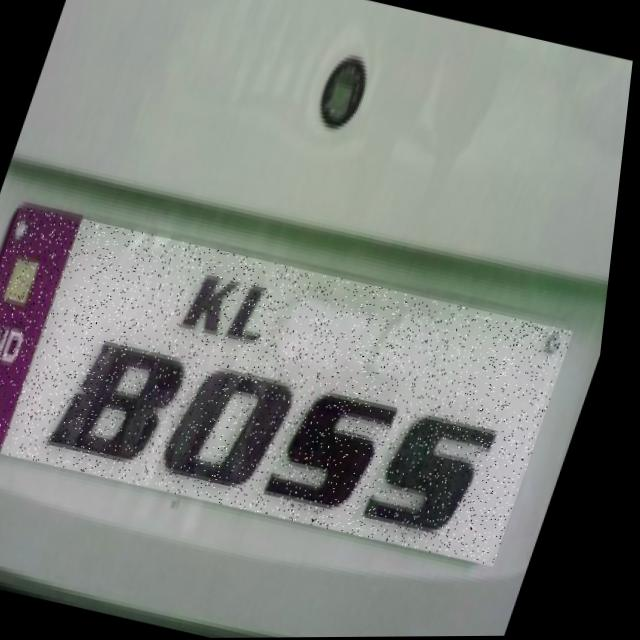license_plate: (0, 200, 592, 570)
